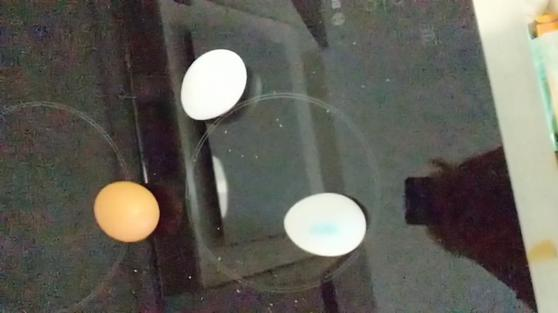egg: (284, 189, 368, 258), (180, 46, 247, 123), (95, 180, 162, 240)
